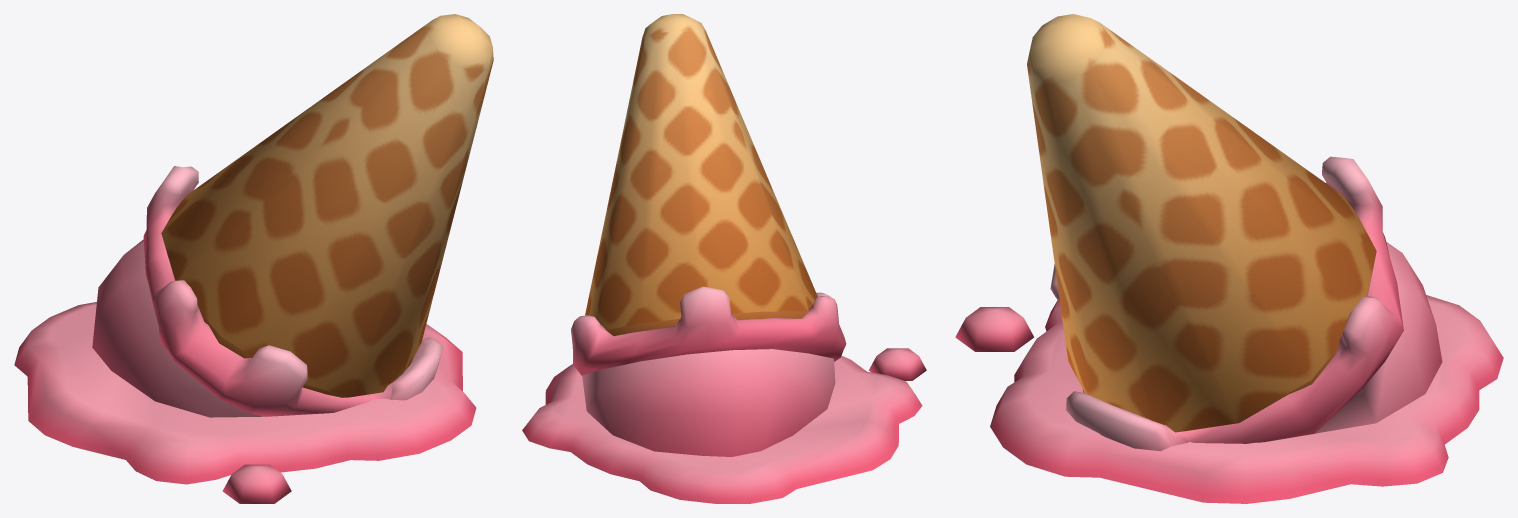
Rendered from m_SpilledIceCream01.fbx.
The picture shows the model from 3 angles, left to right: view 1: azimuth 30°, elevation 25°; view 2: azimuth 150°, elevation 25°; view 3: azimuth 270°, elevation 25°; orthographic projection. The views are drawn at different scales.
Visible parts, largest first — view 1: m_SpilledIceCream01; view 2: m_SpilledIceCream01; view 3: m_SpilledIceCream01.
Boxes of the visible parts, x1,y1,x2,y2 form: m_SpilledIceCream01: (14, 14, 493, 503); m_SpilledIceCream01: (522, 14, 926, 503); m_SpilledIceCream01: (955, 14, 1503, 503).
Bounding box in the file's own units: 12.21 × 11.36 × 12.68.
